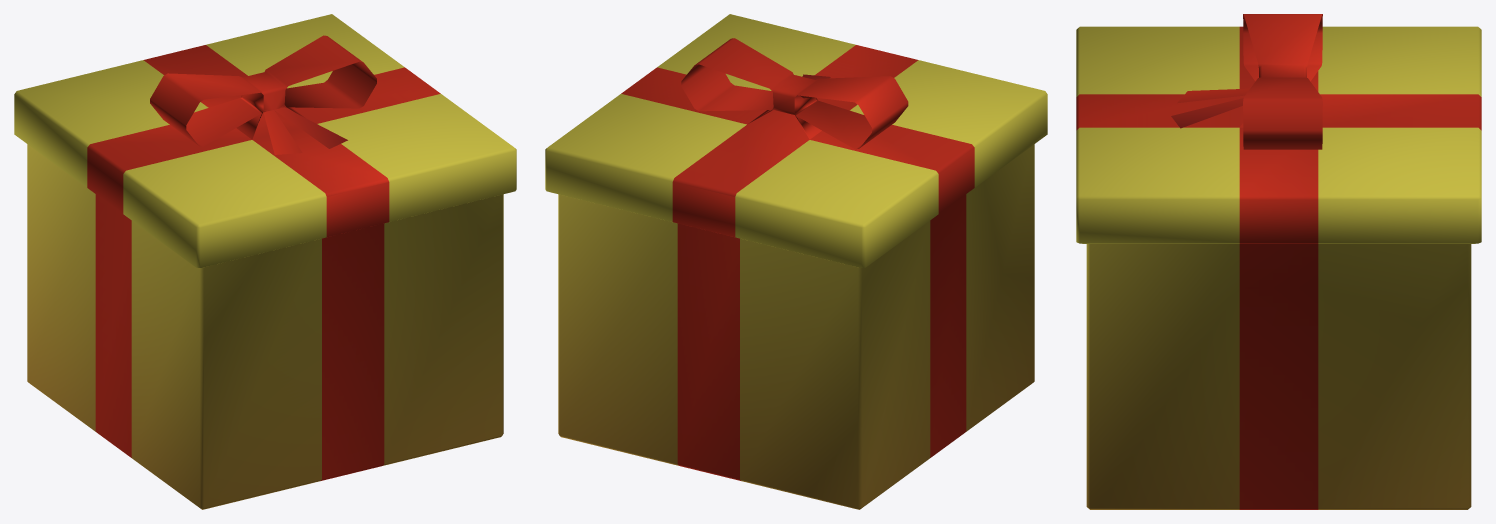
The model's file is gift.glb.
3 views of the same model, side by side, from view 1: azimuth 30°, elevation 25°; view 2: azimuth 150°, elevation 25°; view 3: azimuth 270°, elevation 25° (orthographic). The views are drawn at different scales.
Visible parts, largest first — view 1: gift; view 2: gift; view 3: gift.
Boxes of the visible parts, x1,y1,x2,y2 form: gift: [14, 14, 516, 509]; gift: [545, 14, 1047, 509]; gift: [1076, 14, 1481, 509].
Bounding box in the file's own units: 0.6 × 0.6113 × 0.6.
